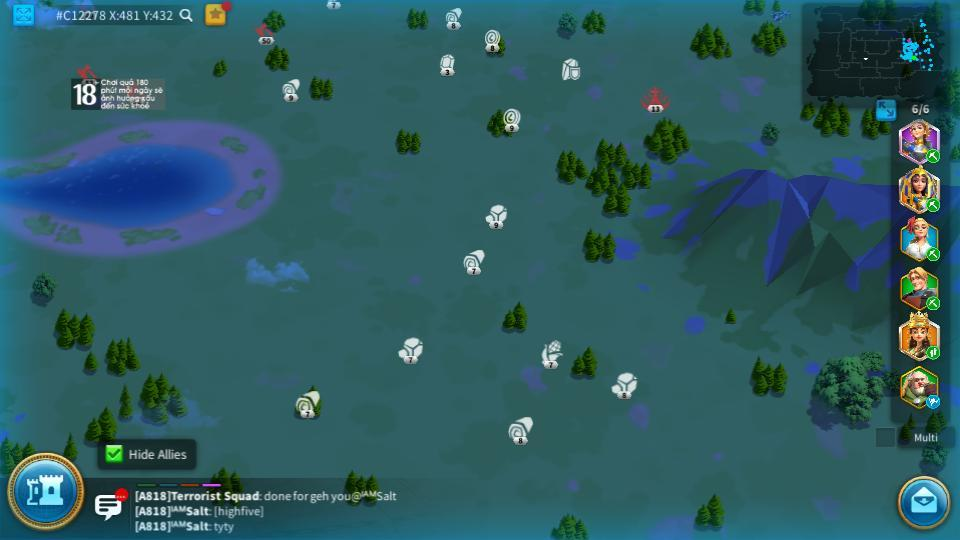gem-z-out: (438, 54, 457, 75), (488, 204, 506, 226)
march_idle: (925, 395, 942, 407)
march_marching: (925, 197, 941, 212), (925, 345, 941, 359), (925, 297, 942, 308), (925, 151, 941, 162)
